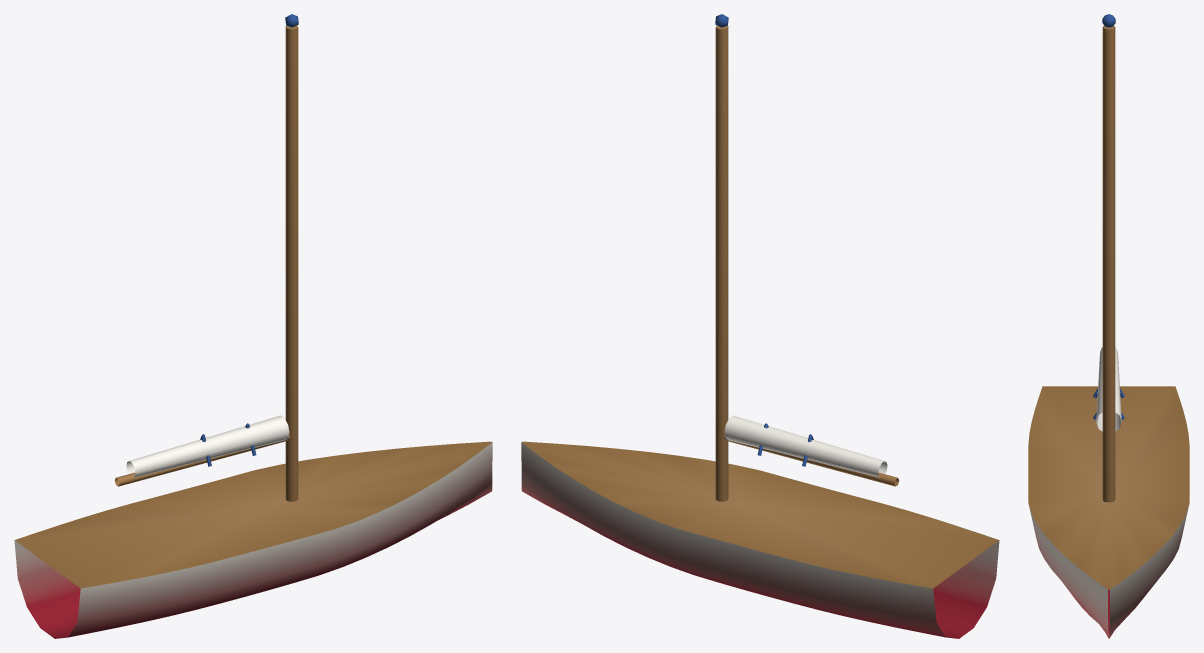
Rendered from boat_docked.glb.
3 renders of one model, left to right at view 1: azimuth 30°, elevation 25°; view 2: azimuth 150°, elevation 25°; view 3: azimuth 270°, elevation 25°, orthographic.
Visible parts, largest first — view 1: boat_docked_main, boat_docked_sail; view 2: boat_docked_main, boat_docked_sail; view 3: boat_docked_main, boat_docked_sail.
Boxes of the visible parts, x1=… form: boat_docked_main: x1=14, y1=14, x2=492, y2=638; boat_docked_sail: x1=126, y1=415, x2=289, y2=477; boat_docked_main: x1=521, y1=14, x2=999, y2=638; boat_docked_sail: x1=724, y1=415, x2=887, y2=477; boat_docked_main: x1=1028, y1=14, x2=1189, y2=638; boat_docked_sail: x1=1096, y1=347, x2=1121, y2=431.
Bounding box in the file's own units: 2 × 2.41 × 0.628.
